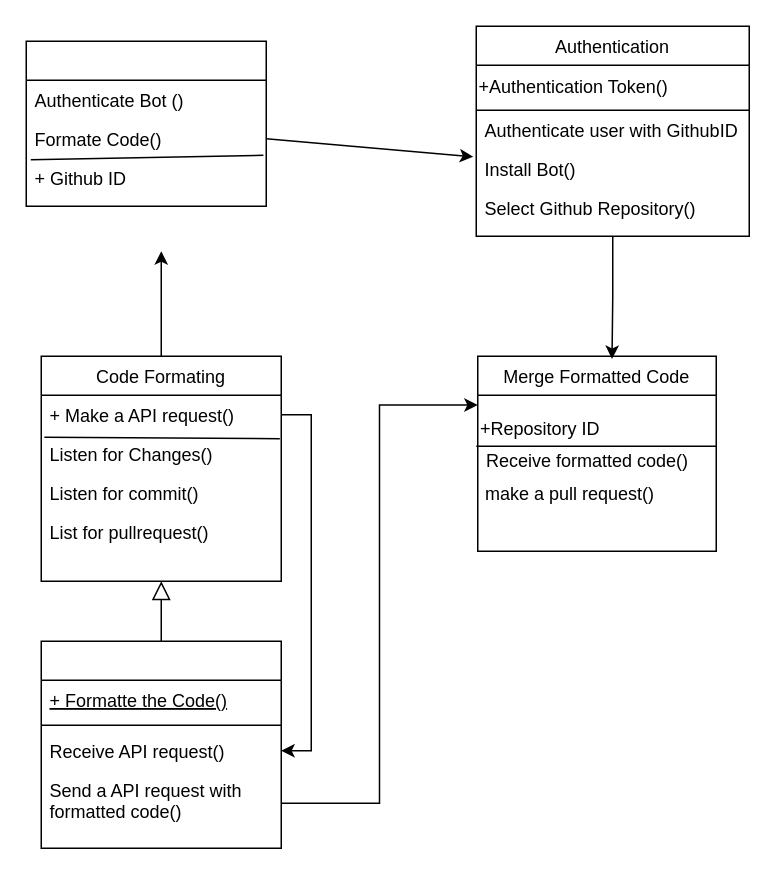
The diagram is 777 pixels wide and 875 high, and some of its shapes have lost their labels. The box of each missing label's shape, as (x1, y1, x2, y2) in pixels:
Code Formater Bot: (25, 40, 266, 206)
Prettier: (40, 640, 281, 848)
